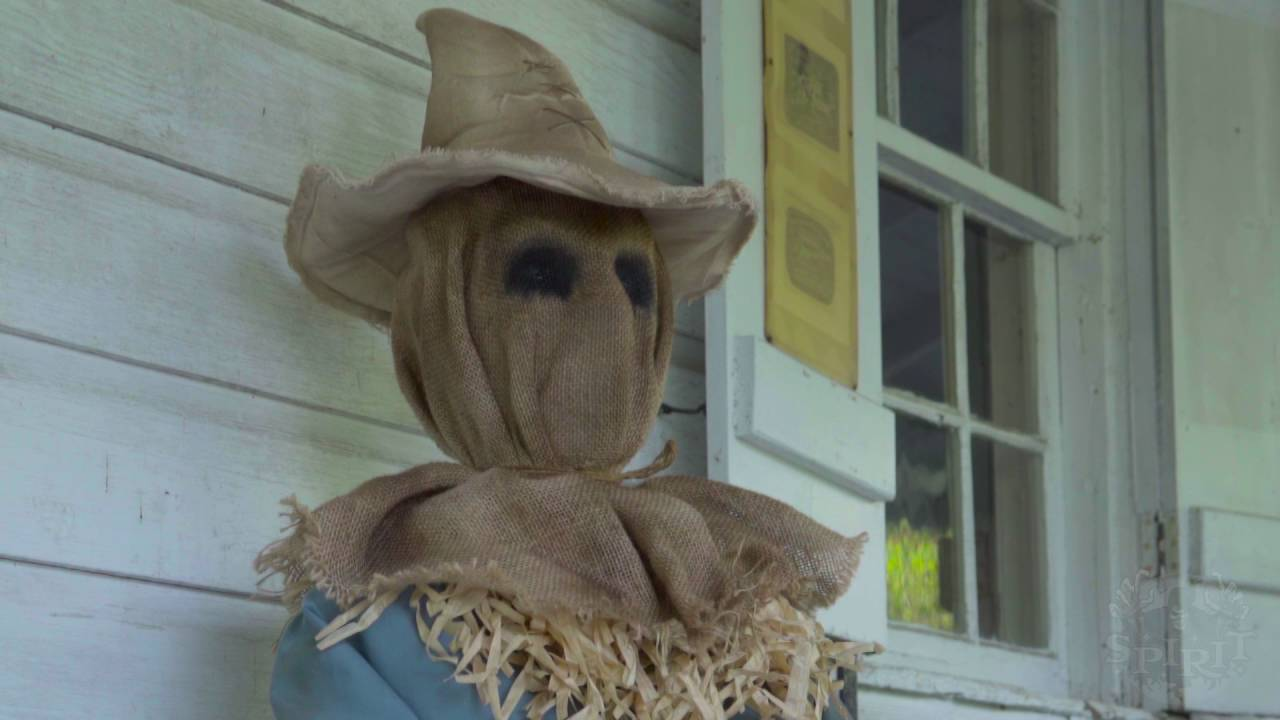person-like: (259, 3, 892, 720)
